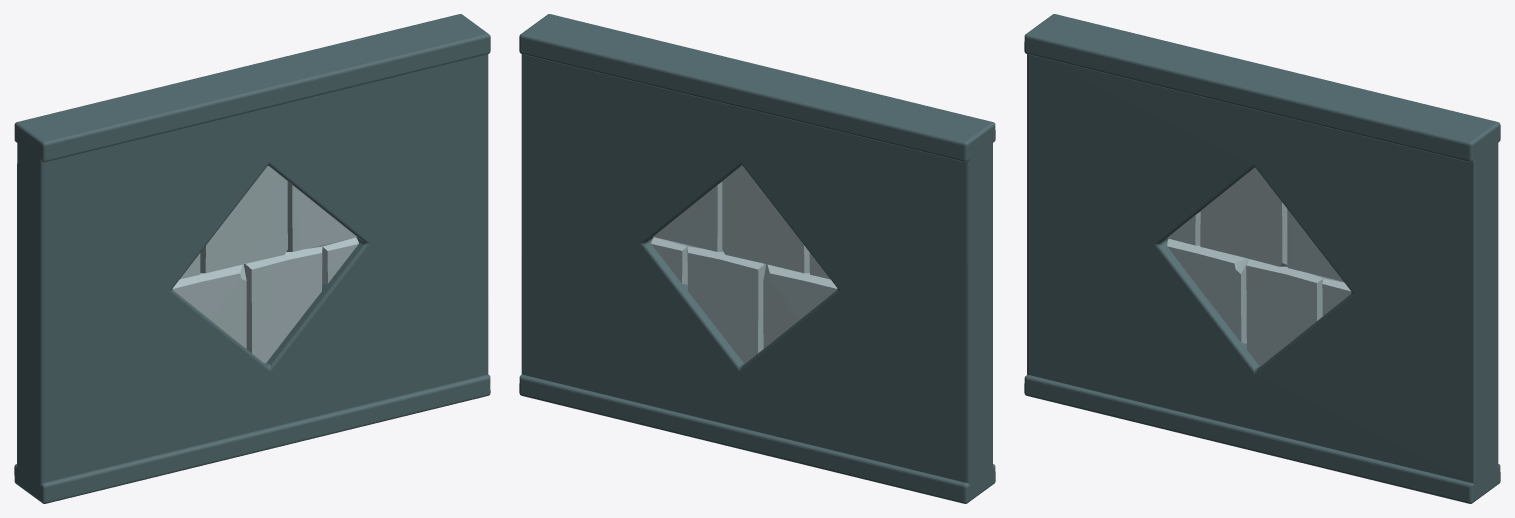
File: wall triangle inside.fbx
3 views of the same model, side by side, from view 1: azimuth 30°, elevation 25°; view 2: azimuth 150°, elevation 25°; view 3: azimuth 330°, elevation 25° (orthographic).
Parts seen in each view (by area): view 1: wall triangle inside; view 2: wall triangle inside; view 3: wall triangle inside.
Boxes of the visible parts, x1,y1,x2,y2 form: wall triangle inside: (14,14,490,503); wall triangle inside: (519,14,995,503); wall triangle inside: (1024,14,1500,503).
Bounding box in the file's own units: 400 × 308 × 46.25.
